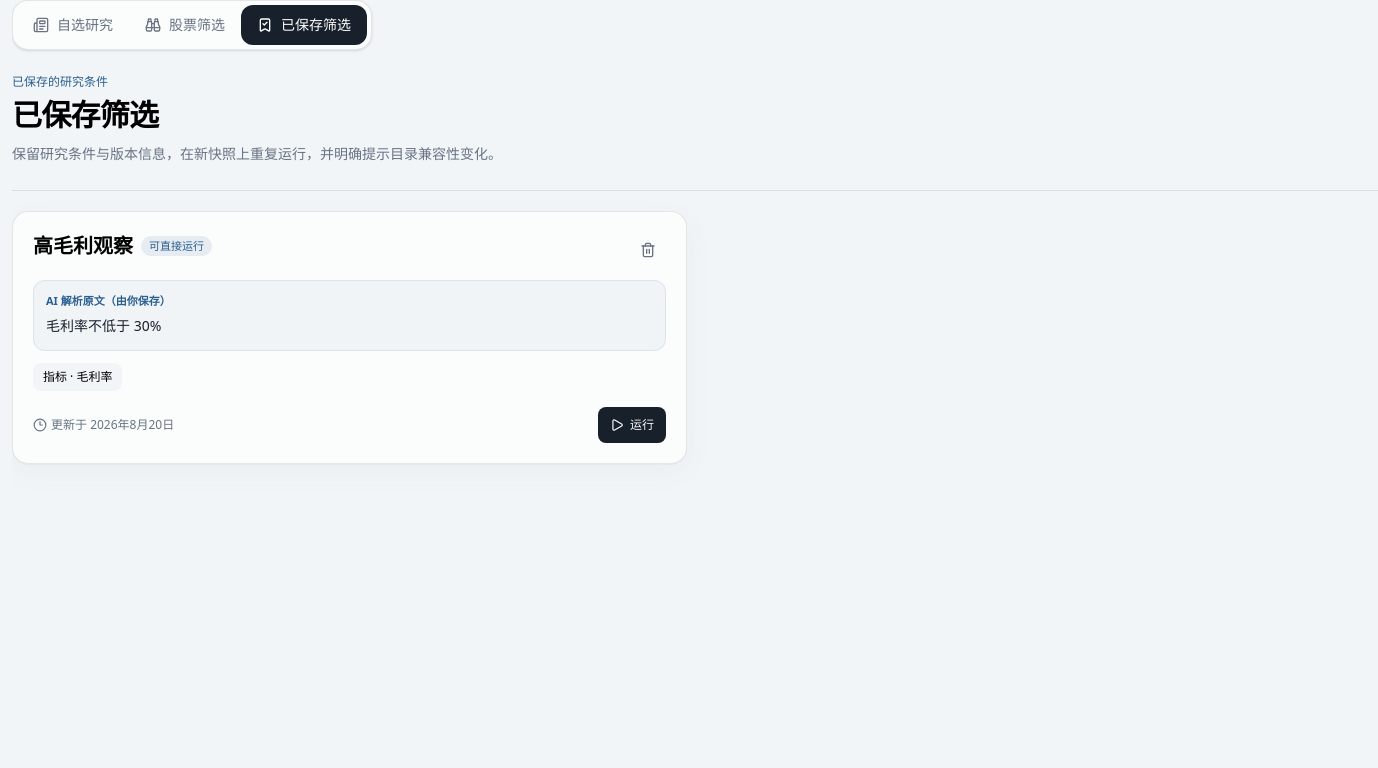
it: SavedScreensWorkspace › renders compatibility and reruns a saved deterministic screen
Expected: the heading "高毛利观察" is shown, [33,232,133,260]
Expected: the text "可直接运行" is shown, [141,236,212,256]
Click the button "运行".
click(632, 424)  # box [598,406,666,442]
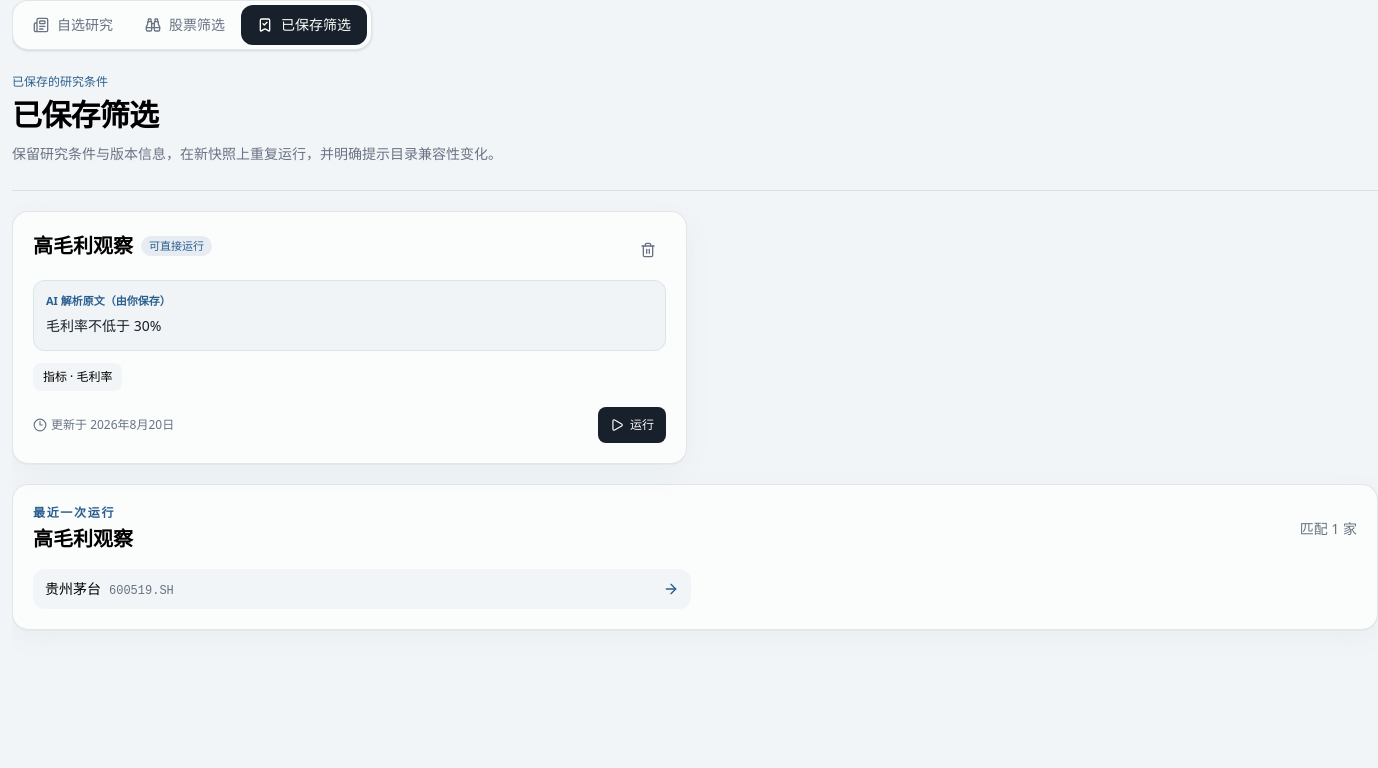
Result: the text "匹配 1 家" is shown at [1300,518,1357,538]
Result: the text "贵州茅台" is shown at [45,578,101,598]
